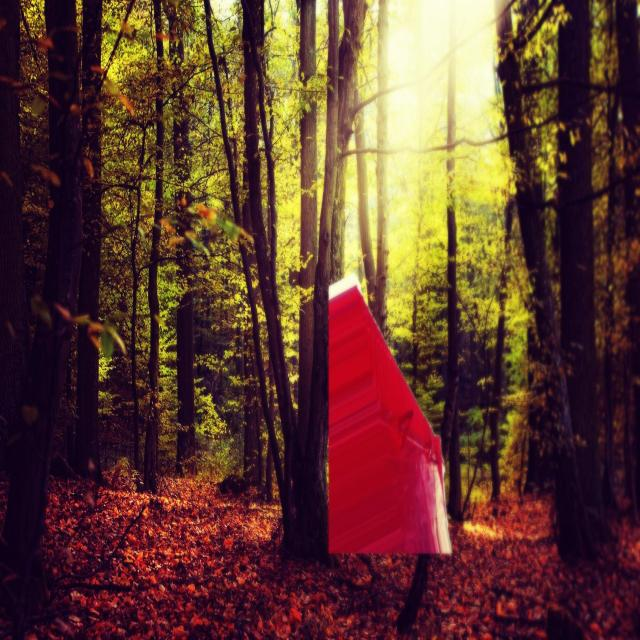airplane: (327, 273, 452, 553)
